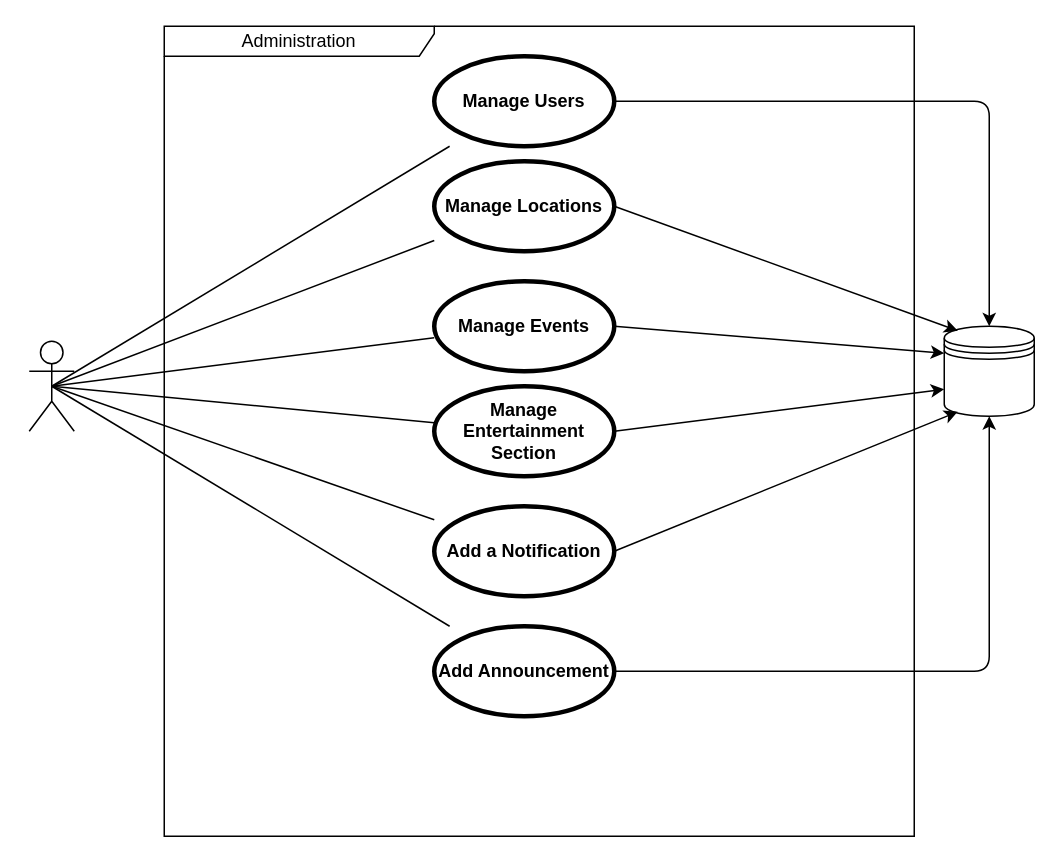
This 1061x863 diagram has some shape labels left out. Here are the shapes that lost their labels. From the top down, the centre of each, then its label:
pixel 51 385: Admin
pixel 988 370: Database
